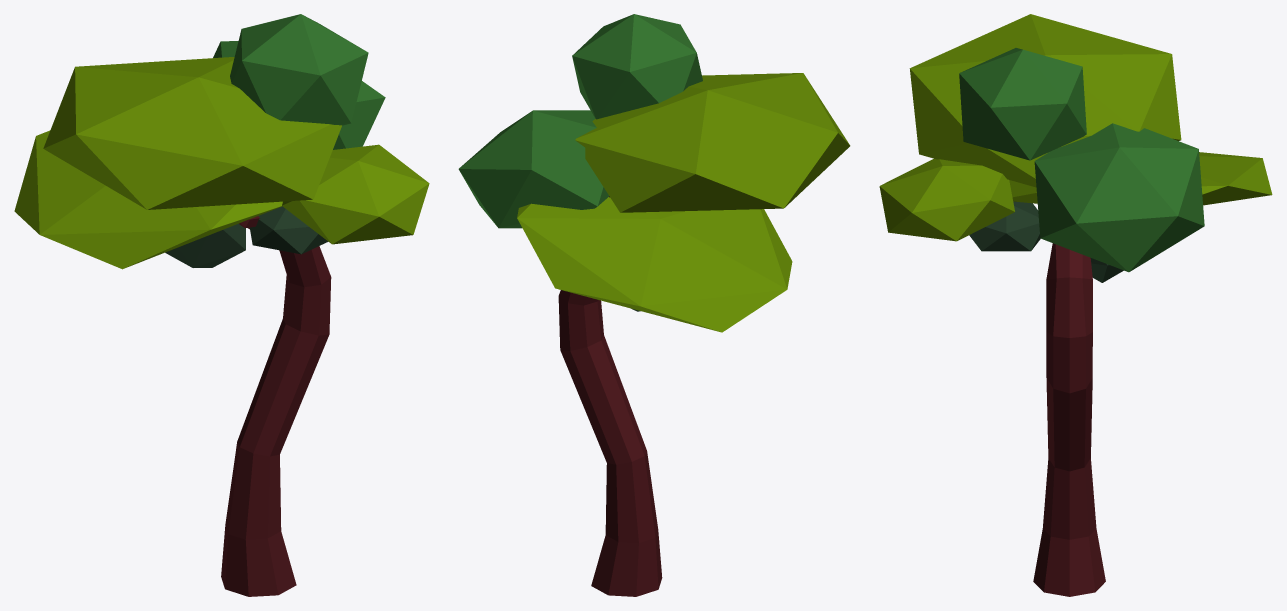
File: M_tree3.fbx
3 renders of one model, left to right at view 1: azimuth 30°, elevation 25°; view 2: azimuth 150°, elevation 25°; view 3: azimuth 270°, elevation 25°, orthographic. The views are drawn at different scales.
Visible parts, largest first — view 1: Circle; view 2: Circle; view 3: Circle.
Part boxes in pixels (bbox=[...]): Circle: bbox=[14, 14, 429, 596]; Circle: bbox=[458, 14, 850, 596]; Circle: bbox=[879, 14, 1272, 596].
Size of the model in its own units: 1687 by 2803 by 1850.
